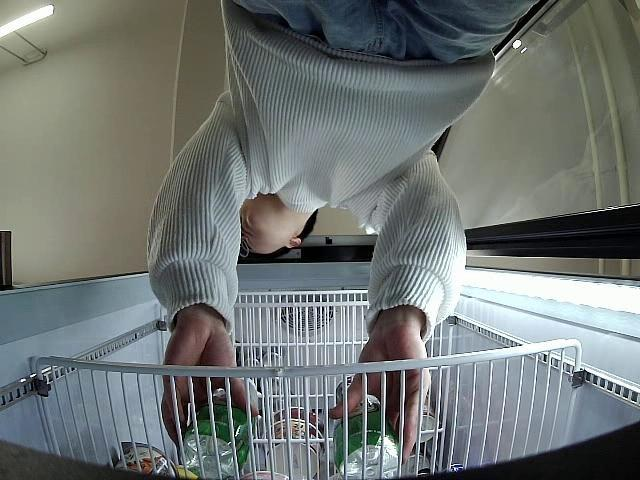18_trevi: (180, 379, 258, 480), (334, 381, 400, 480)
